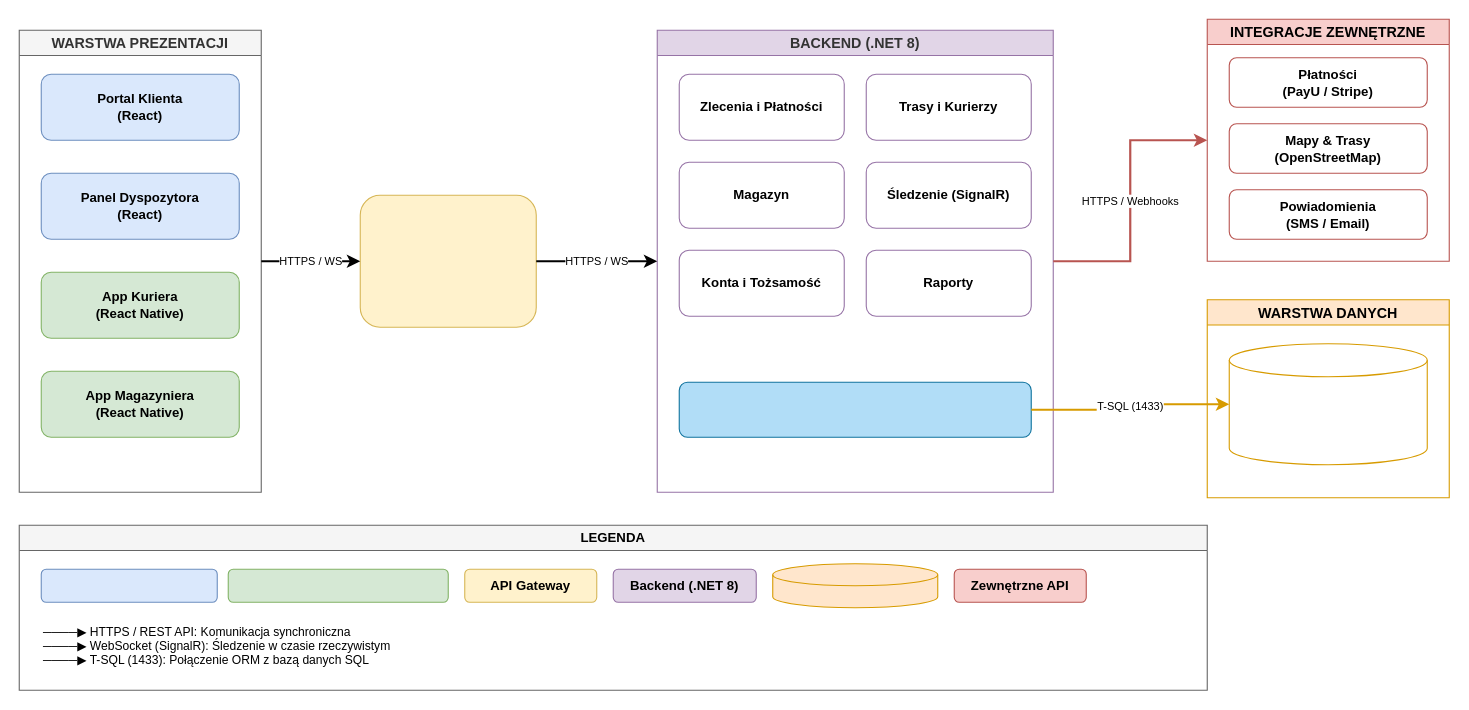
The diagram is 1469 pixels wide and 710 high, and some of its shapes have lost their labels. The centre of each missing label's shape, as x and y in pixels:
API Gateway (AWS ALB): the point at 447,260
Aplikacje Mobilne (React Native): the point at 337,585
Aplikacje Web (React): the point at 128,585
Baza Danych (MS SQL): the point at 855,585
Entity Framework Core 8: the point at 854,409
MS SQL Server (AWS RDS): the point at 1327,404
